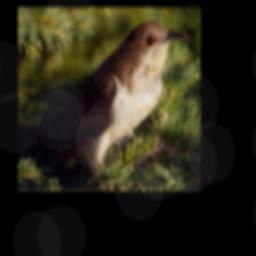Cuckoo: (25, 20, 192, 177)
